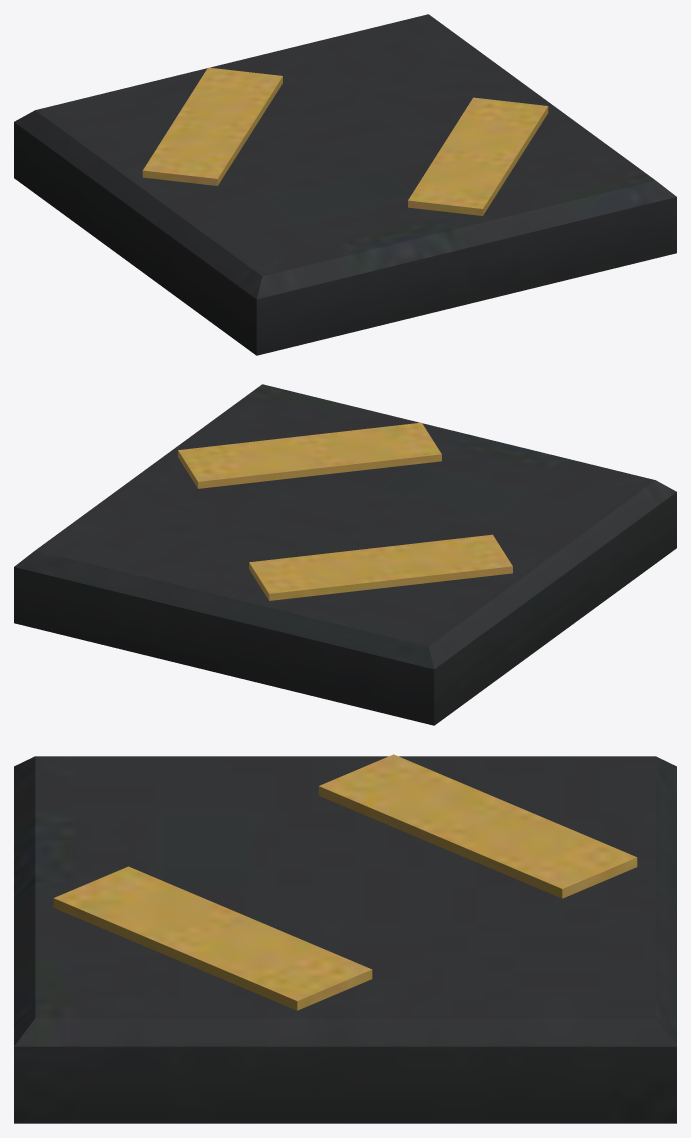
Rendered from refined-hazard-concrete.glb.
3 renders of one model, top to bottom at view 1: azimuth 30°, elevation 25°; view 2: azimuth 150°, elevation 25°; view 3: azimuth 270°, elevation 25°, orthographic. The views are drawn at different scales.
Parts seen in each view (by area): view 1: refined-hazard-concrete; view 2: refined-hazard-concrete; view 3: refined-hazard-concrete.
Part boxes in pixels (x1,y1,x2,y2): refined-hazard-concrete: (14,14,676,355); refined-hazard-concrete: (14,384,676,725); refined-hazard-concrete: (14,754,676,1123).
Size of the model in its own units: 0.25 by 0.044 by 0.25.
1 material, 1 textured.
